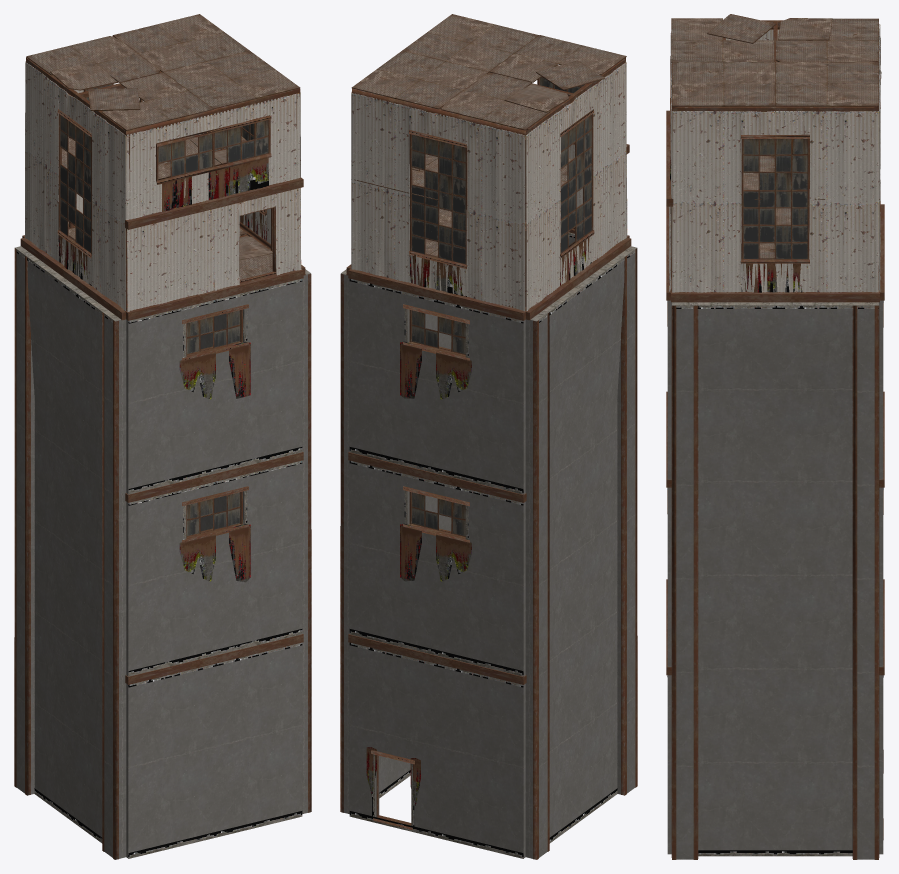
File: watch_tower_c.glb
3 views of the same model, side by side, from view 1: azimuth 30°, elevation 25°; view 2: azimuth 150°, elevation 25°; view 3: azimuth 270°, elevation 25° (orthographic). The views are drawn at different scales.
Visible parts, largest first — view 1: watch_tower_c_LOD0; view 2: watch_tower_c_LOD0; view 3: watch_tower_c_LOD0.
Part boxes in pixels (x1=…): watch_tower_c_LOD0: x1=14, y1=14, x2=311, y2=859; watch_tower_c_LOD0: x1=340, y1=14, x2=637, y2=859; watch_tower_c_LOD0: x1=666, y1=14, x2=884, y2=859.
Bounding box in the file's own units: 6.78 × 24.02 × 6.33.
Materials: 7 (7 with a texture image).
